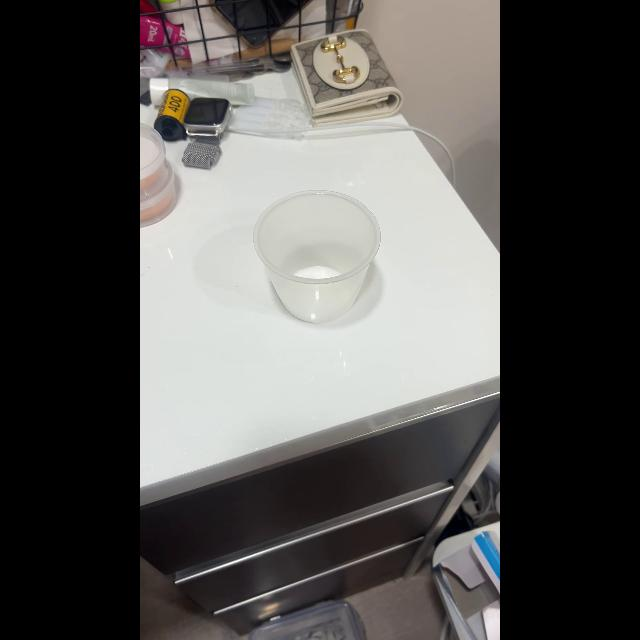clean: (248, 191, 389, 333)
